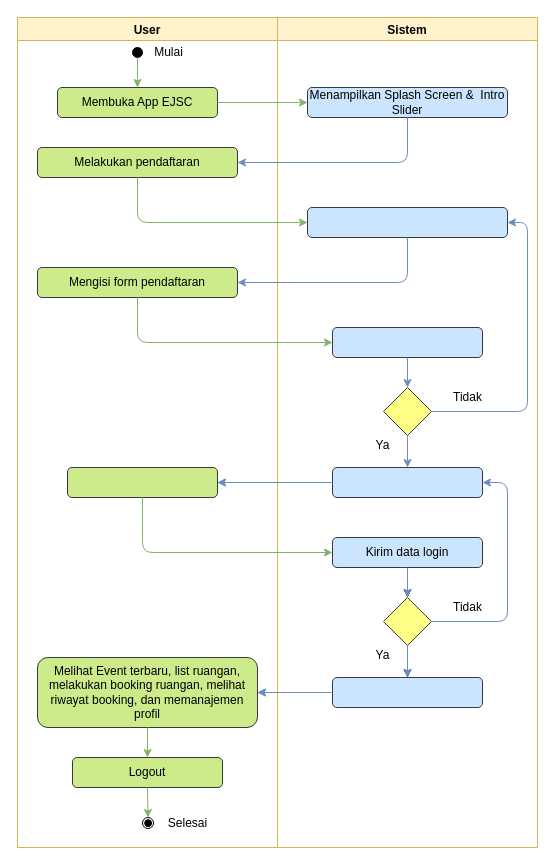
Image size: 555x865. Some labels were removed from this diagram. The shapes that lost their labels are listed below. From the top down, each one's box as (x1, y1, x2, y2) in pixels, then its label:
(306, 206, 508, 238): Menampilkan form pendaftaran
(332, 326, 482, 358): Kirim data pendaftaran
(66, 466, 218, 498): Mengisi form login
(332, 466, 482, 498): Menampilkan form login
(332, 676, 482, 708): Menampilkan beranda
